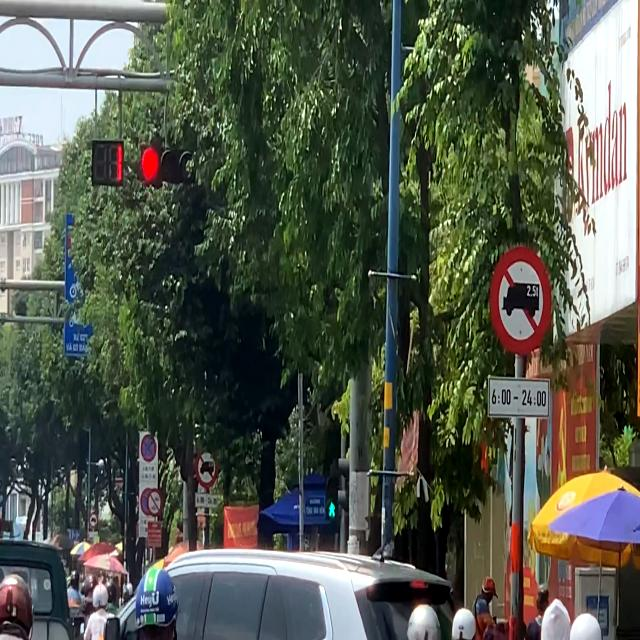P.106b: (489, 242, 550, 357), (198, 454, 217, 487)
